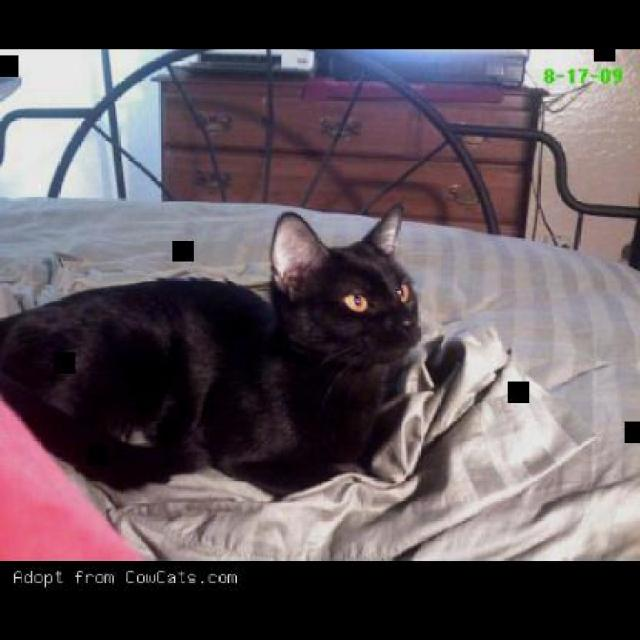unauthorized: (0, 202, 451, 500)
